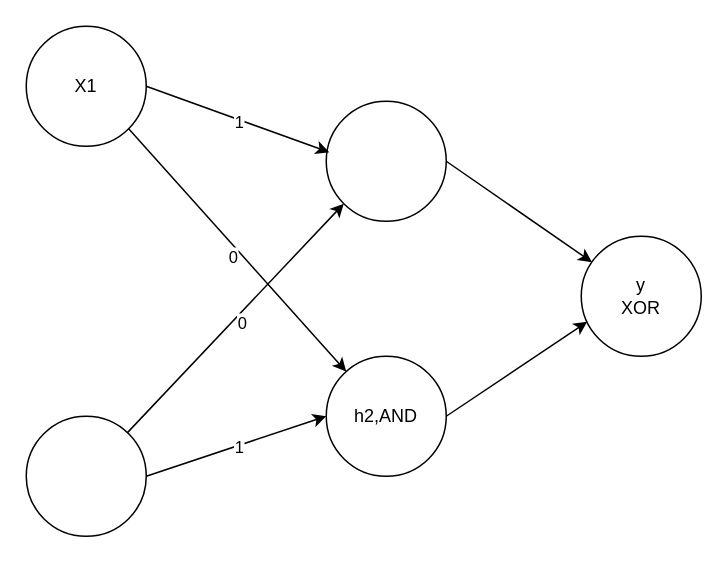
Some shapes in this 728 by 563 pixel diagram are drawn without their labels. The shapes that lost their labels are listed below. From the top down, each one's centre as x and y in pixels, then its label:
(x=385, y=160): h1,OR
(x=85, y=475): X2
